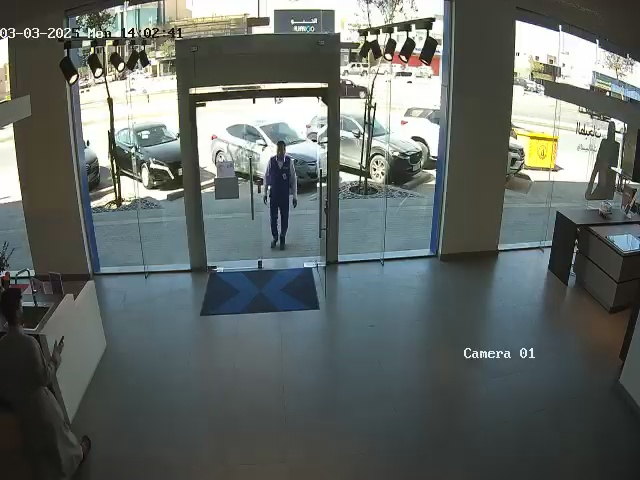employee: (262, 140, 298, 251)
male: (0, 286, 92, 480)
